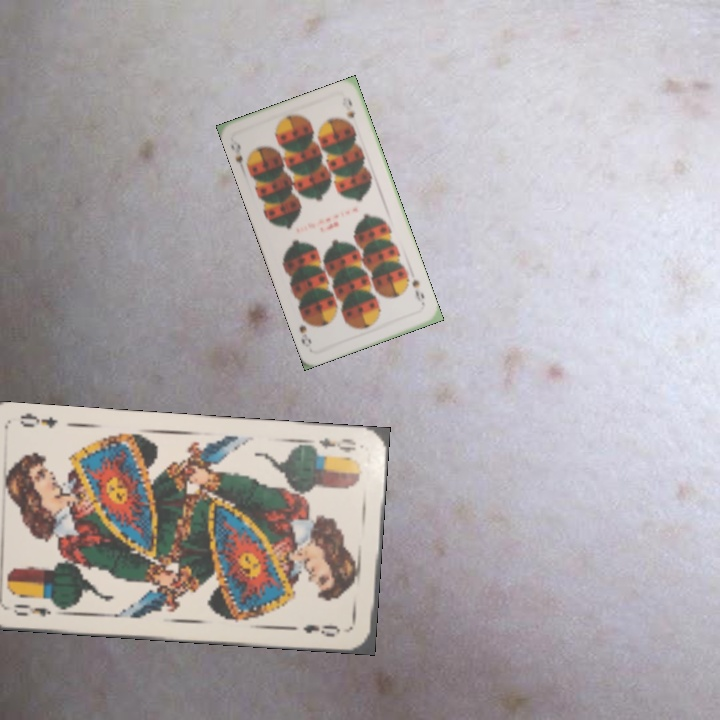EO: (315, 434, 359, 456), (9, 599, 54, 619)
S9: (226, 136, 248, 175), (408, 274, 428, 310)
